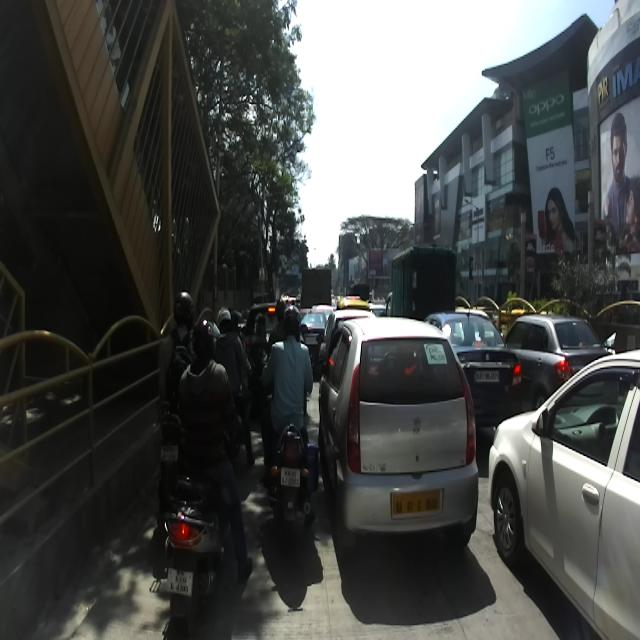car ahead at: (491, 352, 639, 640), (331, 321, 482, 557)
motorcycle ahead at: (160, 484, 222, 626), (266, 428, 322, 564)
